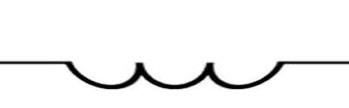inductor: (48, 46, 308, 95)
